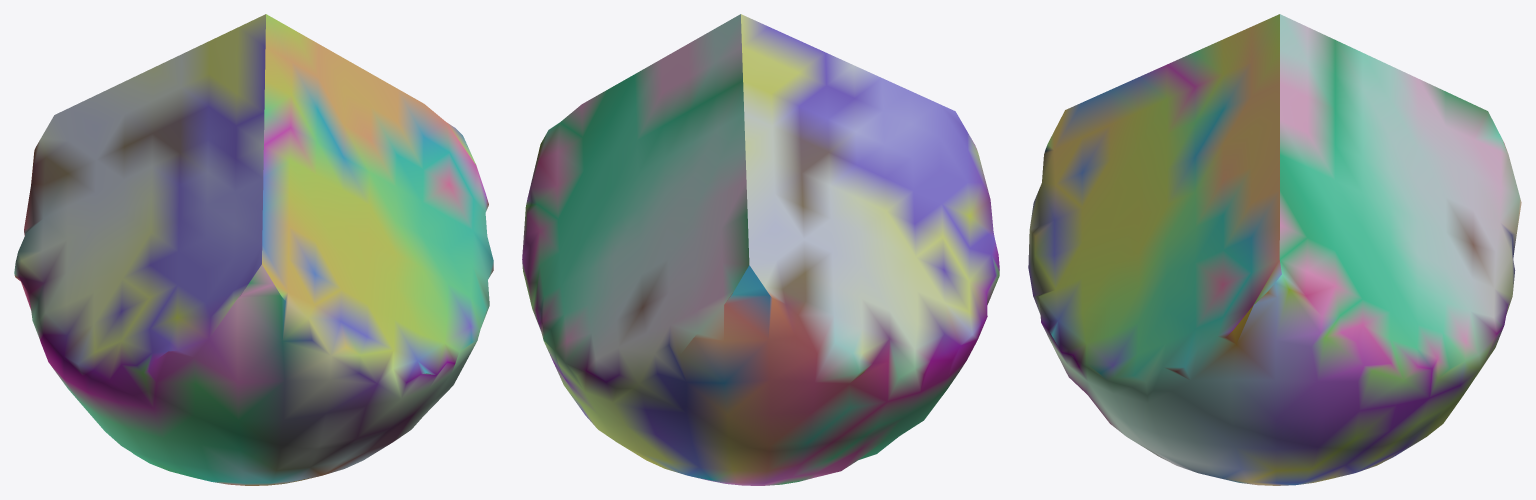
The model's file is pointy_blob.glb.
3 views of the same model, side by side, from view 1: azimuth 30°, elevation 25°; view 2: azimuth 150°, elevation 25°; view 3: azimuth 270°, elevation 25° (orthographic). The views are drawn at different scales.
Bounding box in the file's own units: 0.6682 × 0.6938 × 0.681.
